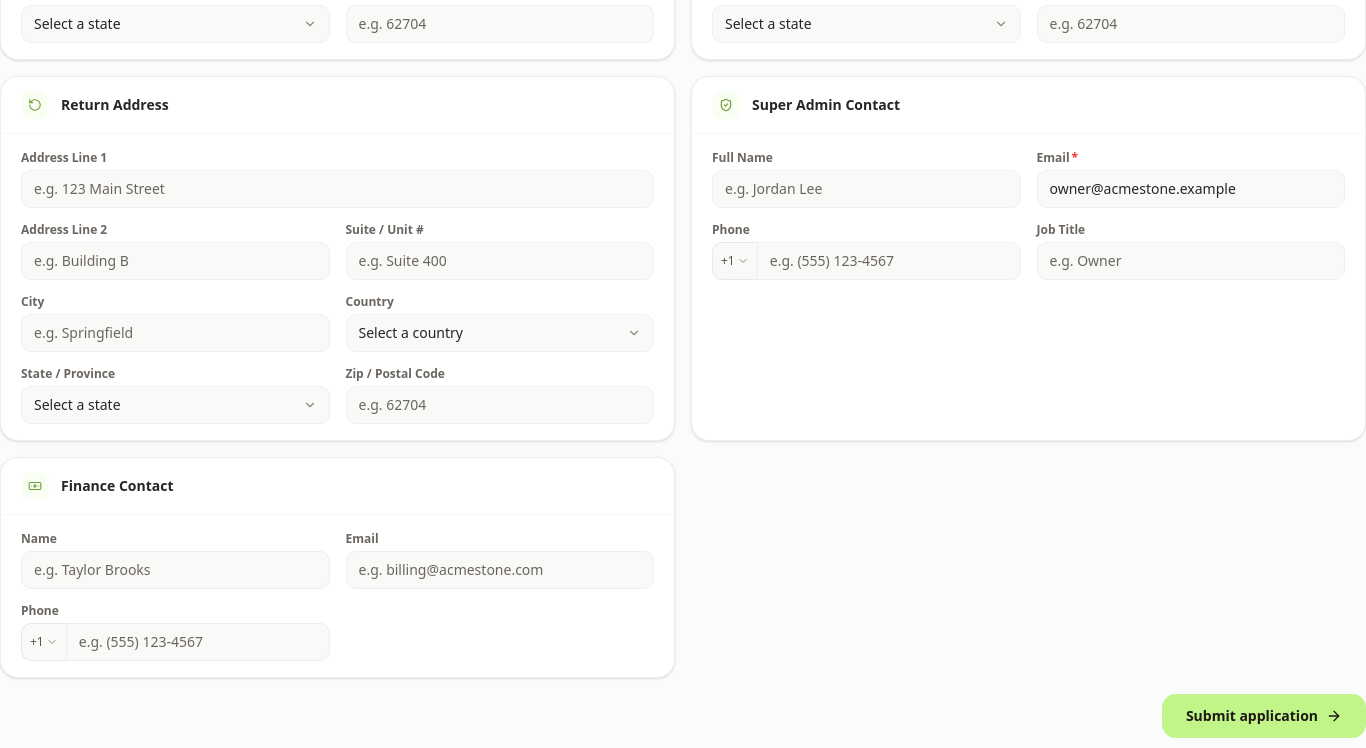
Test: OnboardingForm — Primary Location › blocks submit and names the dropdown fields that are still empty
(page scrolled)
Click the button "Submit application".
click(1264, 716)  # box [1162,694,1365,738]
(page scrolled)
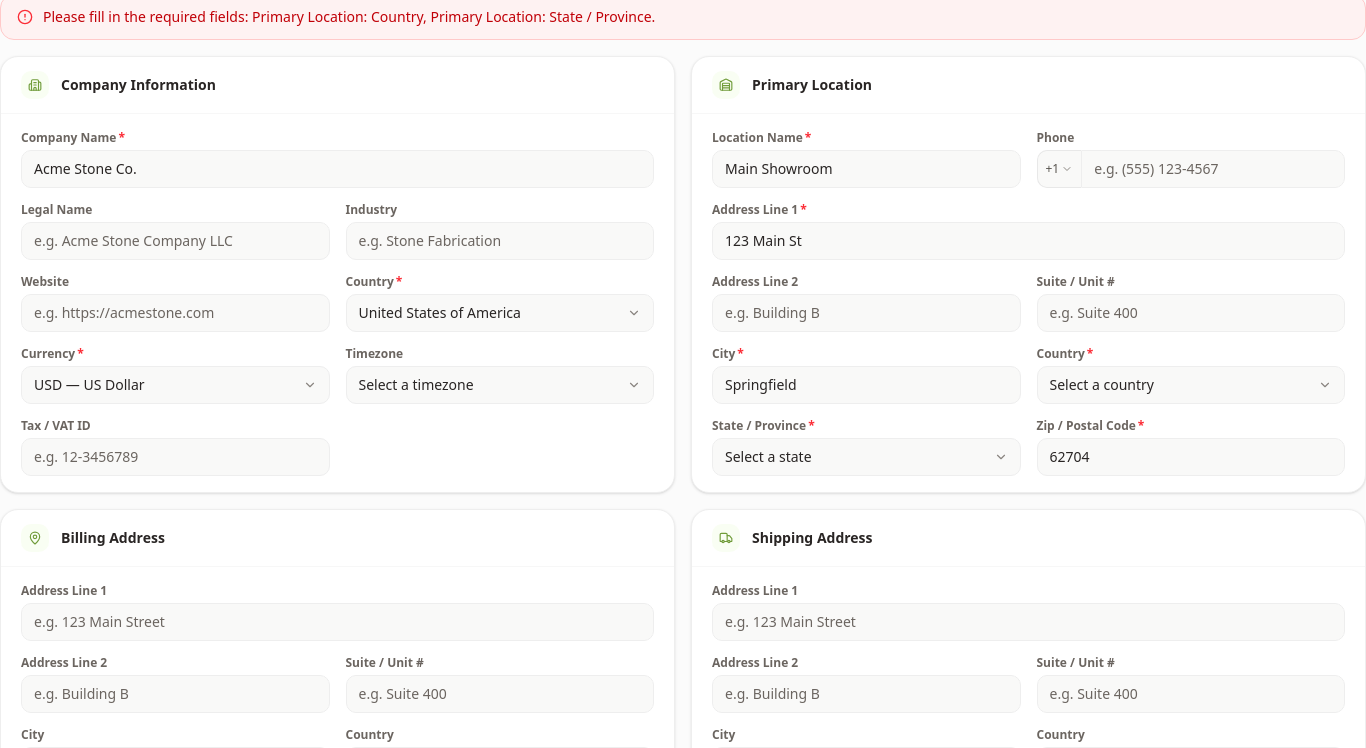
Expected: the text "Please fill in the required fields" does not show "Primary Location: City", [43,7,655,27]
Now the text "Please fill in the required fields" shows "Primary Location: Country", box [43,7,655,26]
Now the text "Please fill in the required fields" shows "Primary Location: State / Province", box [43,7,655,26]
